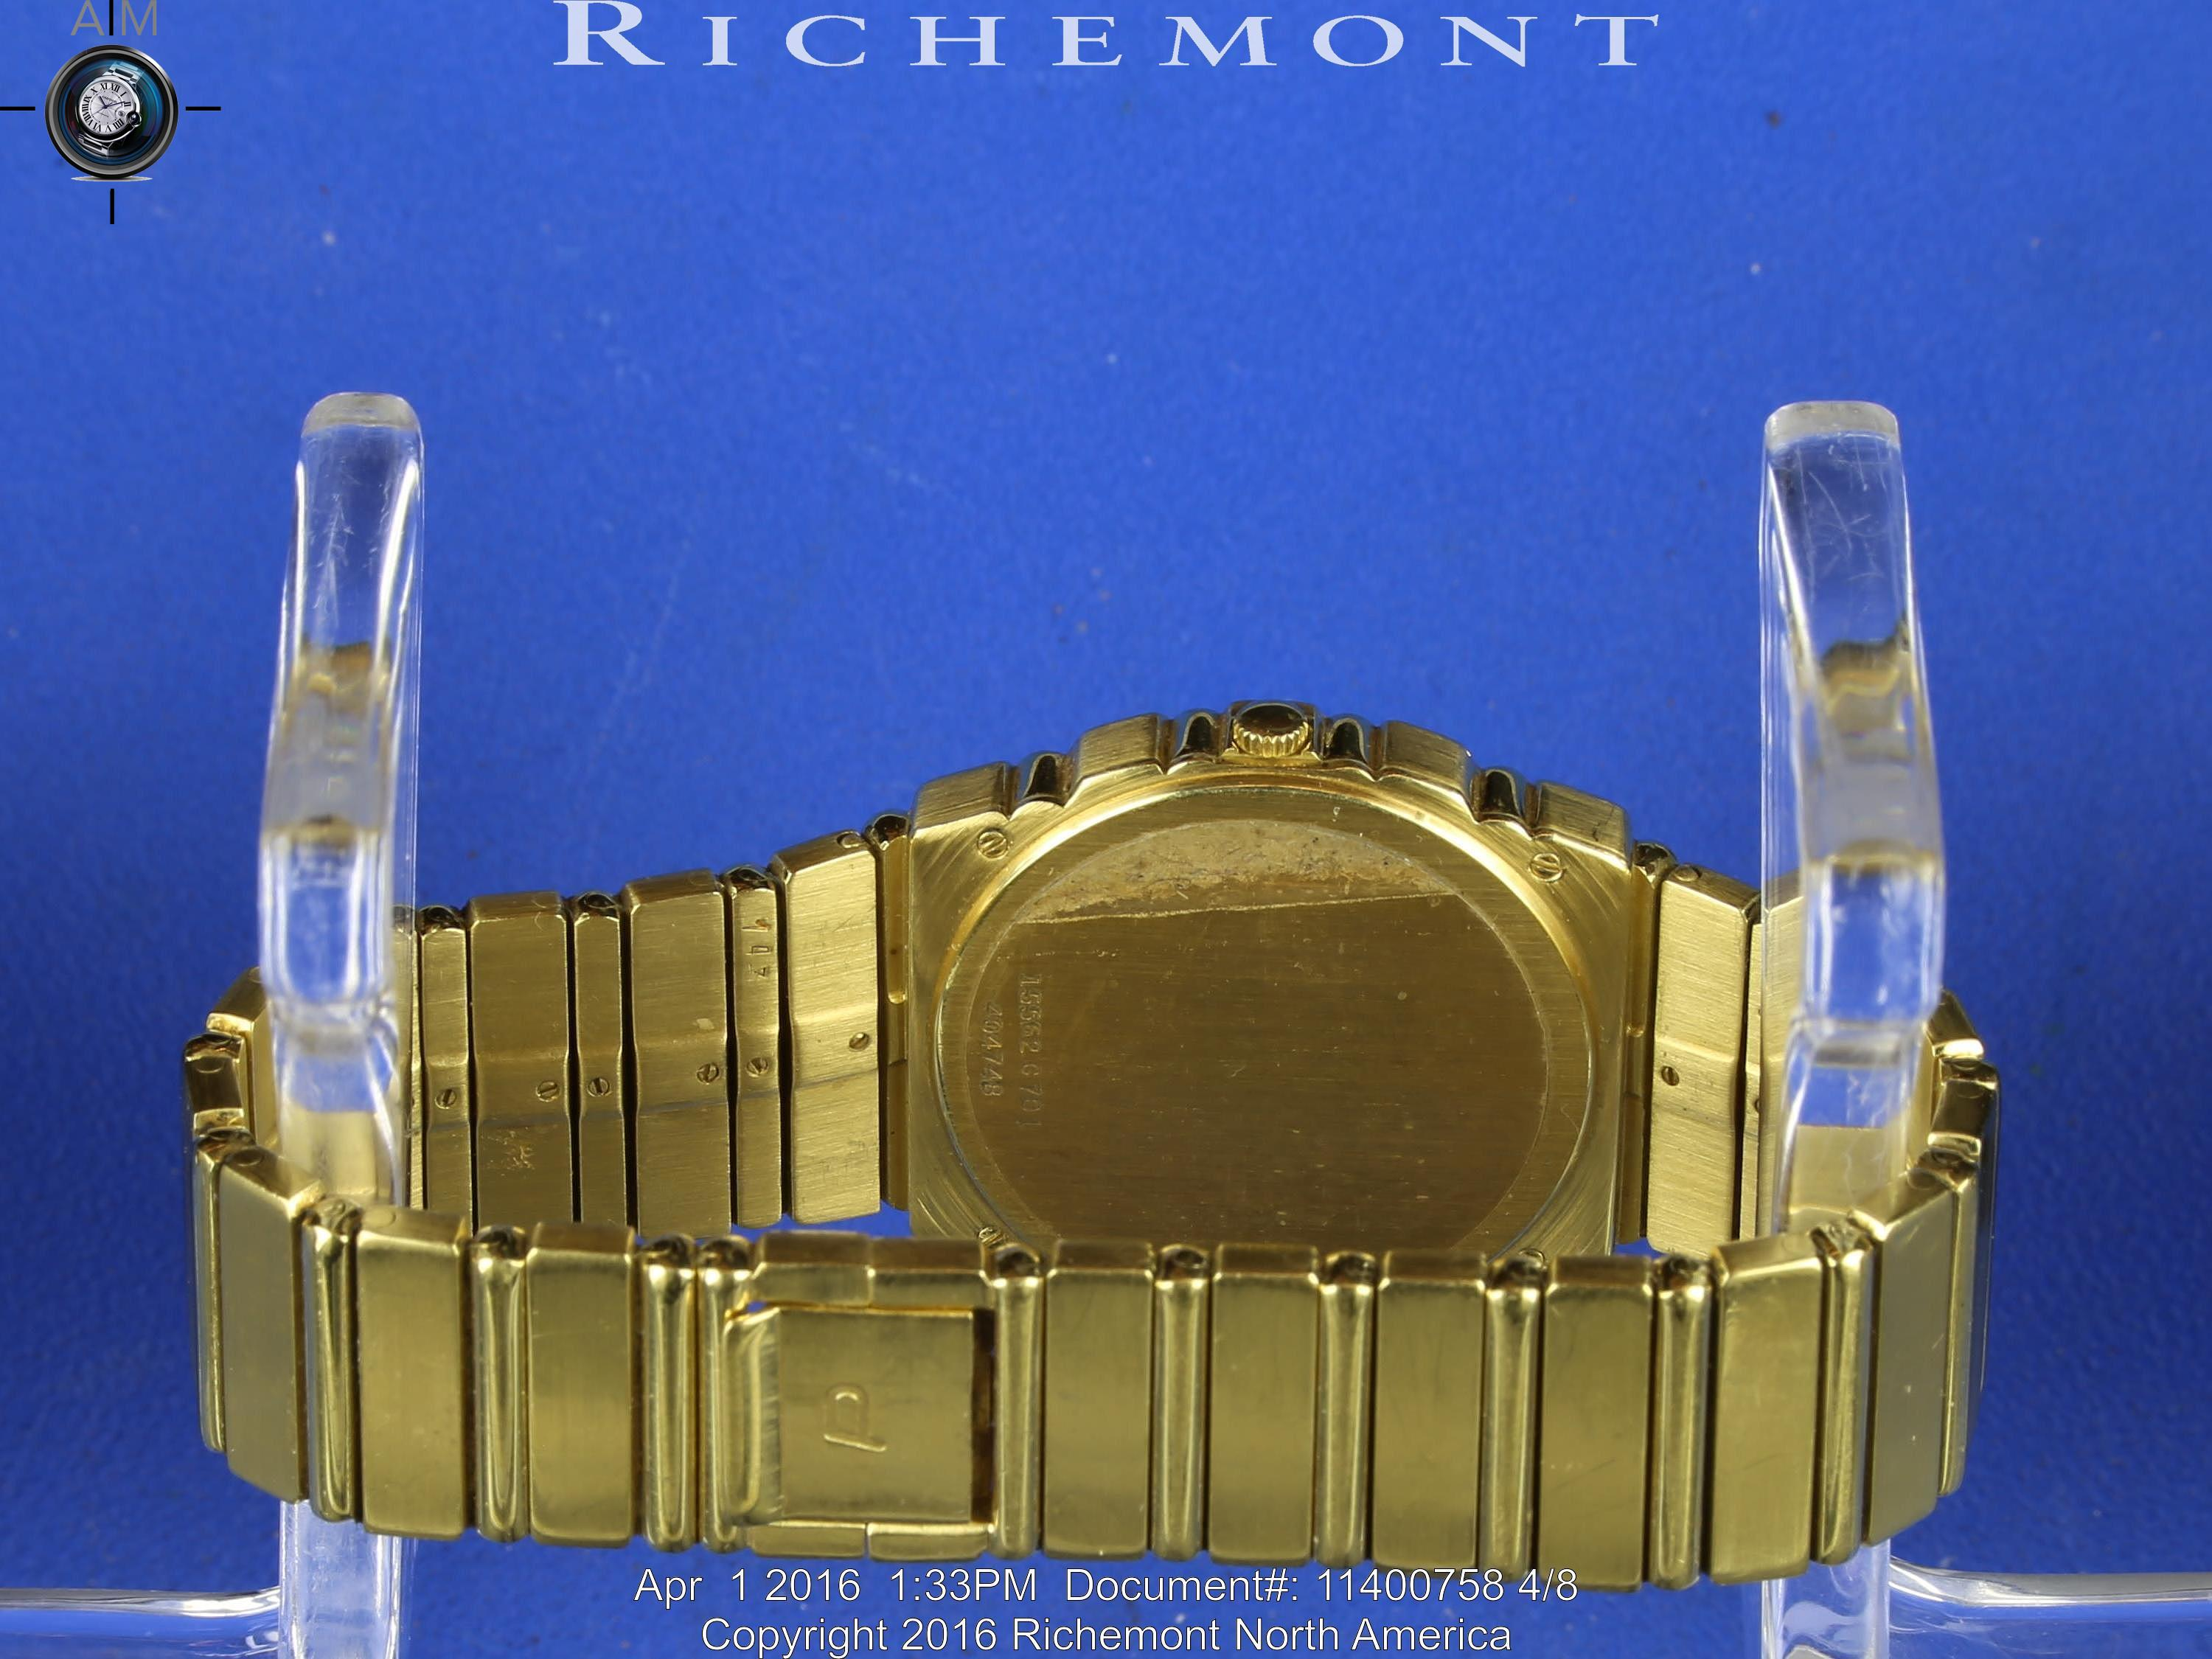Watch BackCase: (900, 695, 1644, 1232)
